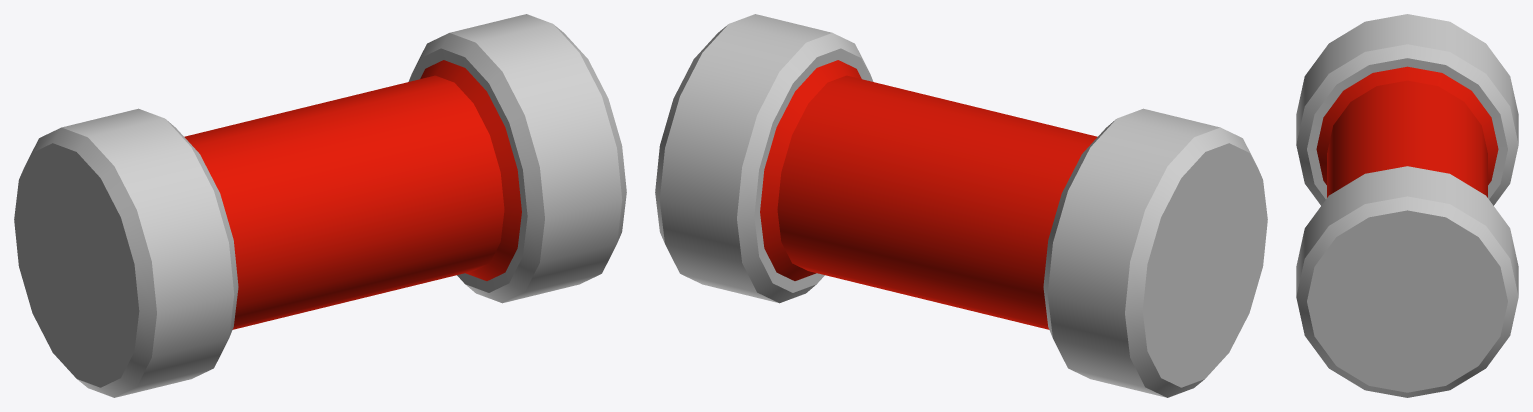
Rendered from Fuse.fbx.
3 renders of one model, left to right at view 1: azimuth 30°, elevation 25°; view 2: azimuth 150°, elevation 25°; view 3: azimuth 270°, elevation 25°, orthographic. The views are drawn at different scales.
Visible parts, largest first — view 1: Fuse; view 2: Fuse; view 3: Fuse.
Part boxes in pixels (bbox=[...]): Fuse: bbox=[14, 14, 626, 397]; Fuse: bbox=[655, 14, 1267, 397]; Fuse: bbox=[1296, 14, 1518, 397].
Size of the model in its own units: 43.48 by 21.37 by 21.37.
